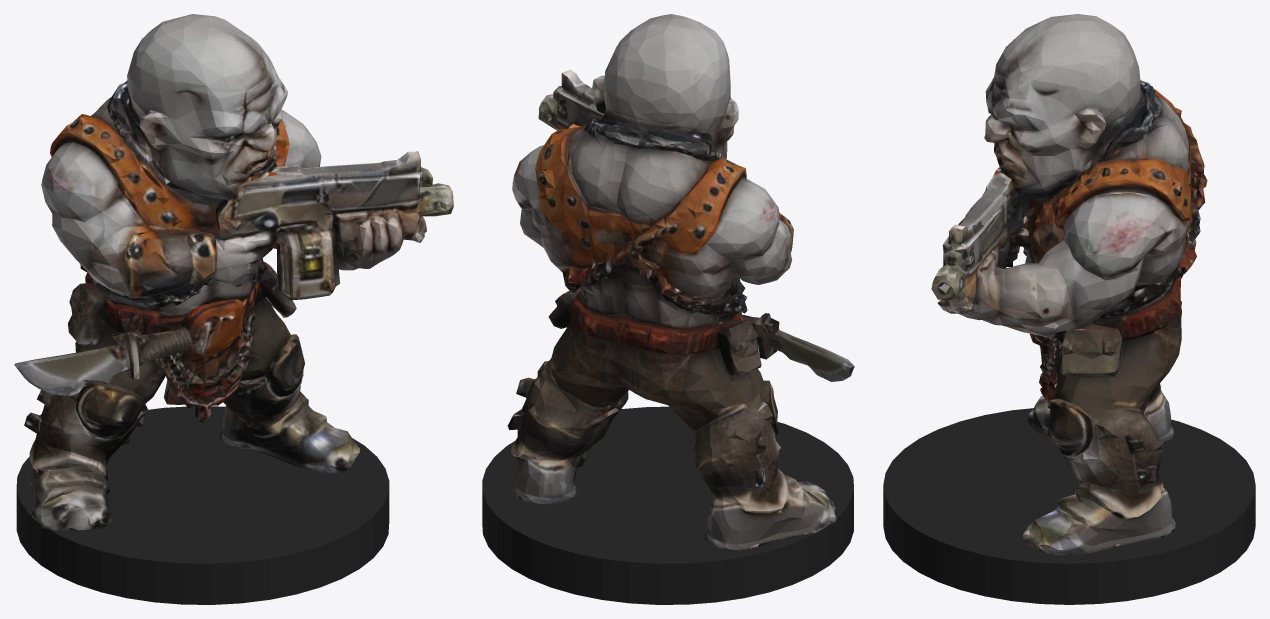
Rendered from goliath-bruiser-boltgun.glb.
3 views of the same model, side by side, from view 1: azimuth 30°, elevation 25°; view 2: azimuth 150°, elevation 25°; view 3: azimuth 270°, elevation 25° (orthographic).
Visible parts, largest first — view 1: figure, base; view 2: figure, base; view 3: figure, base.
Part boxes in pixels (x1,y1,x2,y2): figure: (14,14,453,530); base: (16,406,389,604); figure: (507,14,854,550); base: (482,406,853,604); figure: (931,14,1207,555); base: (883,408,1255,604).
Size of the model in its own units: 1.14 by 1.47 by 0.9843.
Materials: 2 (1 with a texture image).
